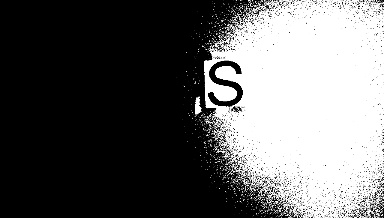S: (202, 59, 249, 108)
